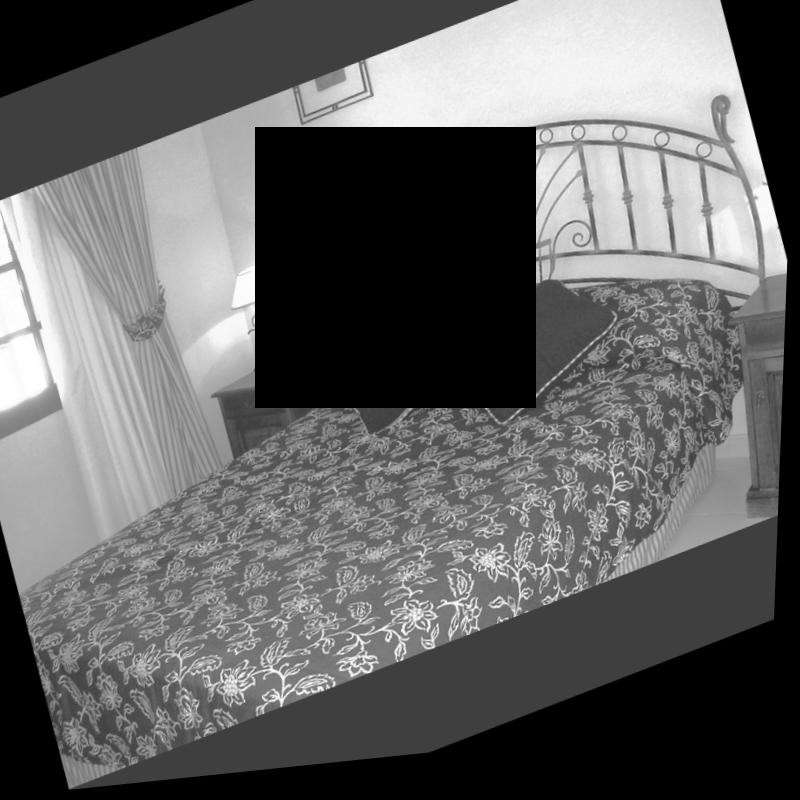pillow: (430, 268, 639, 450), (320, 297, 500, 457)
